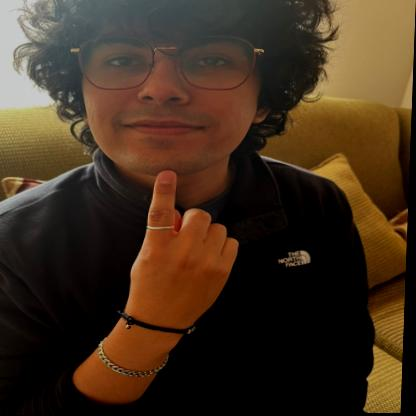T: (126, 163, 247, 330)
